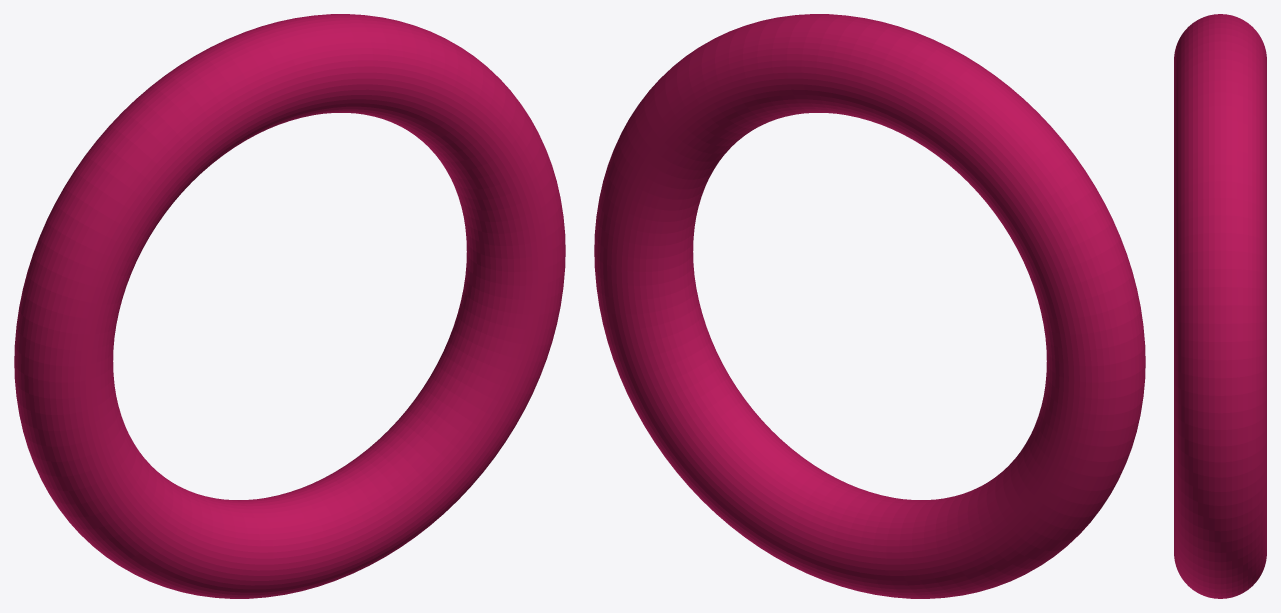
3 views of the same model, side by side, from view 1: azimuth 30°, elevation 25°; view 2: azimuth 150°, elevation 25°; view 3: azimuth 270°, elevation 25° (orthographic). The views are drawn at different scales.
Visible parts, largest first — view 1: world; view 2: world; view 3: world.
Part boxes in pixels (x1,y1,x2,y2): world: [14, 14, 565, 598]; world: [594, 14, 1145, 598]; world: [1174, 14, 1266, 598].
Size of the model in its own units: 29.33 by 29.33 by 4.66.
